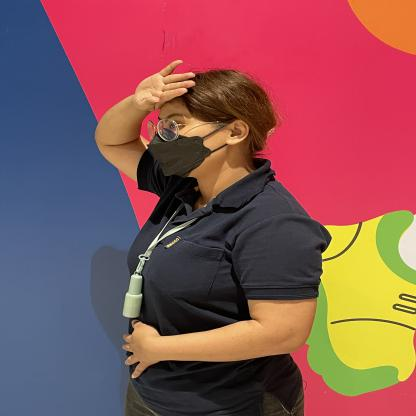Sick: (78, 35, 222, 120)
